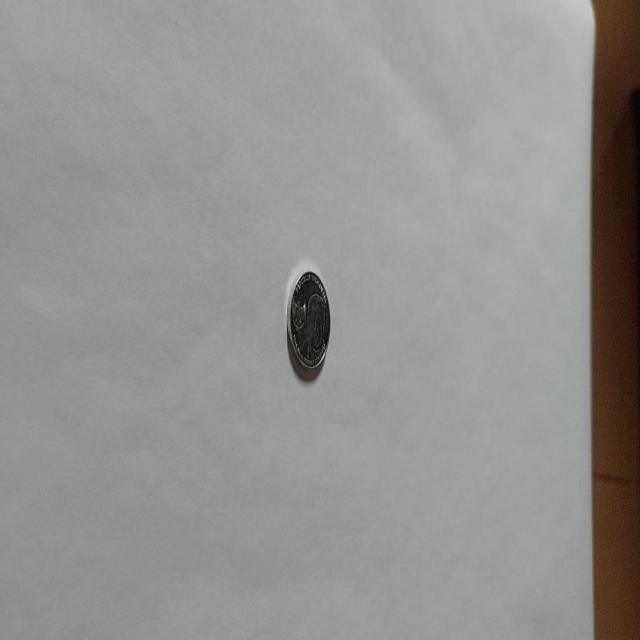seratus rupiah: (286, 270, 330, 372)
